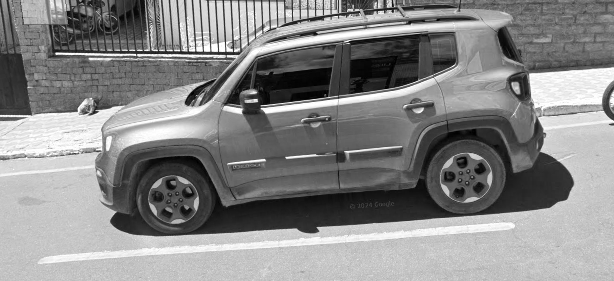car: (91, 1, 558, 228)
